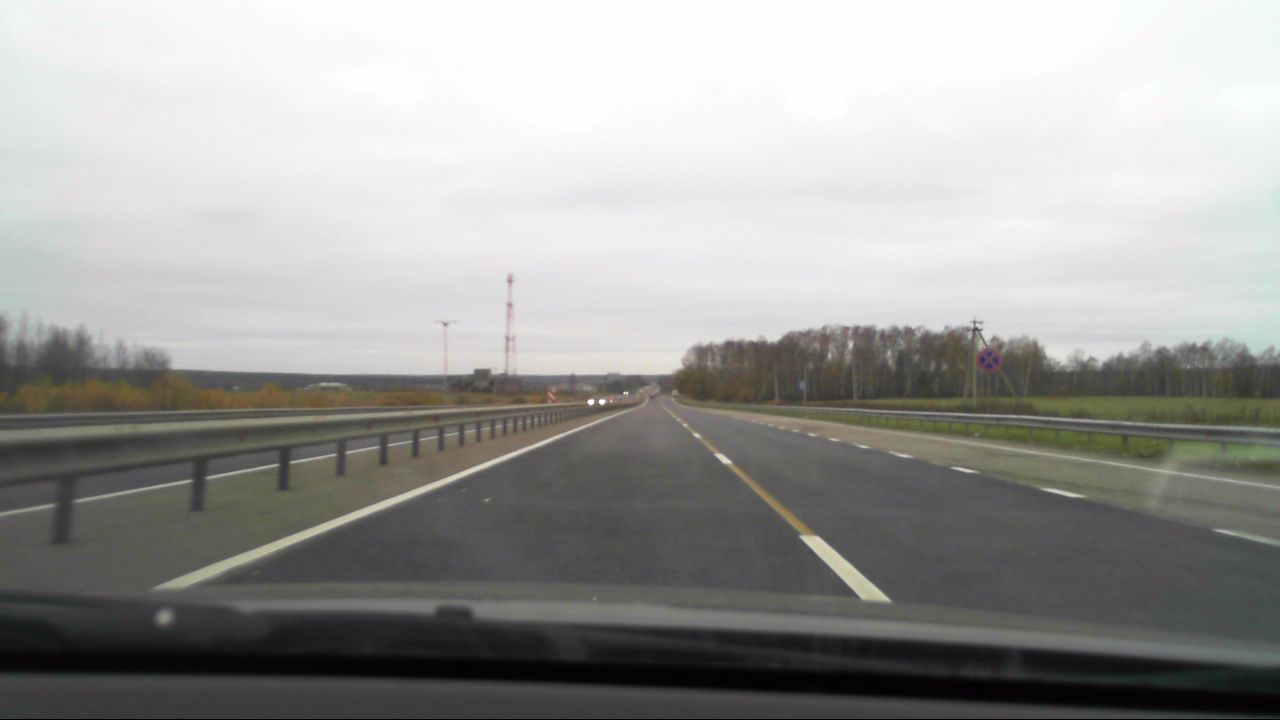No Parking: (974, 346, 1003, 373)
